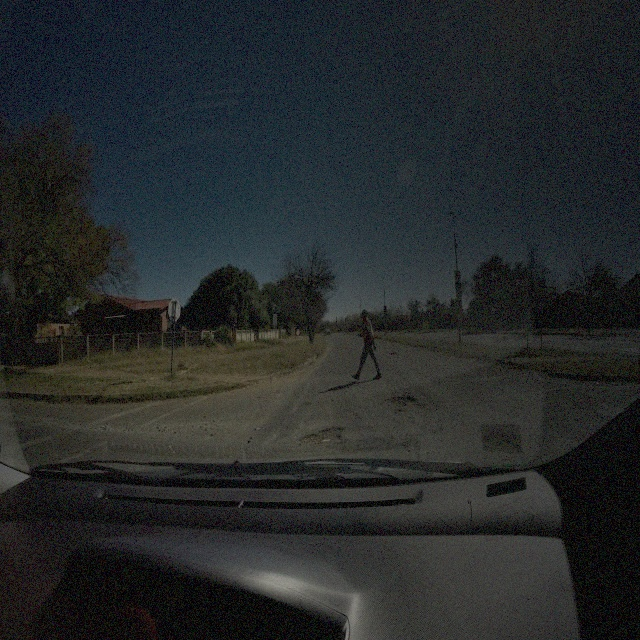pothole: (298, 424, 348, 446), (386, 393, 418, 410), (303, 400, 312, 406)
